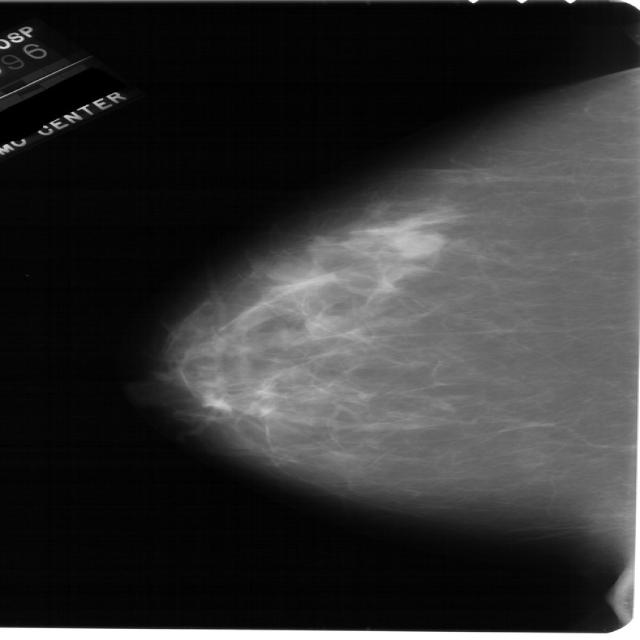tumour: (388, 231, 444, 255)
